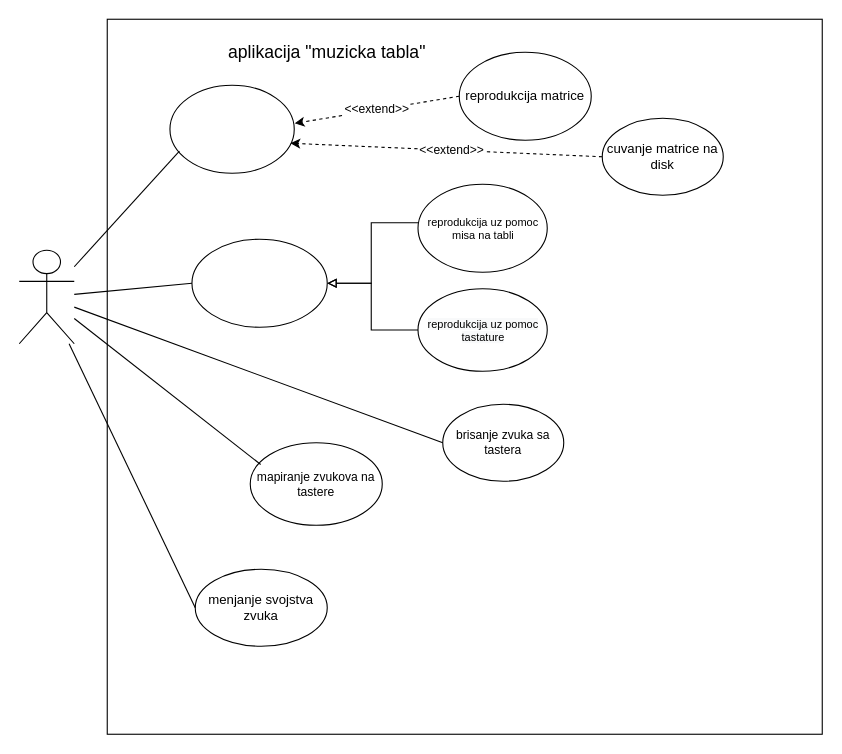
Image size: 842x754. Some labels were removed from this diagram. Here are the shapes that lost their labels. From the top down, the centre of each, then its label:
the point at 231,128: snimanje matrice
the point at 46,296: korisnik
the point at 259,282: reprodukcija zvuka pomocu table
